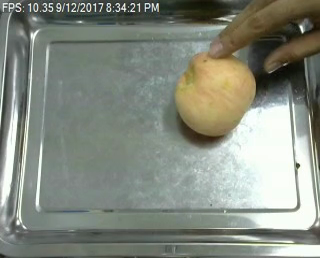Peach: (174, 52, 257, 136)
